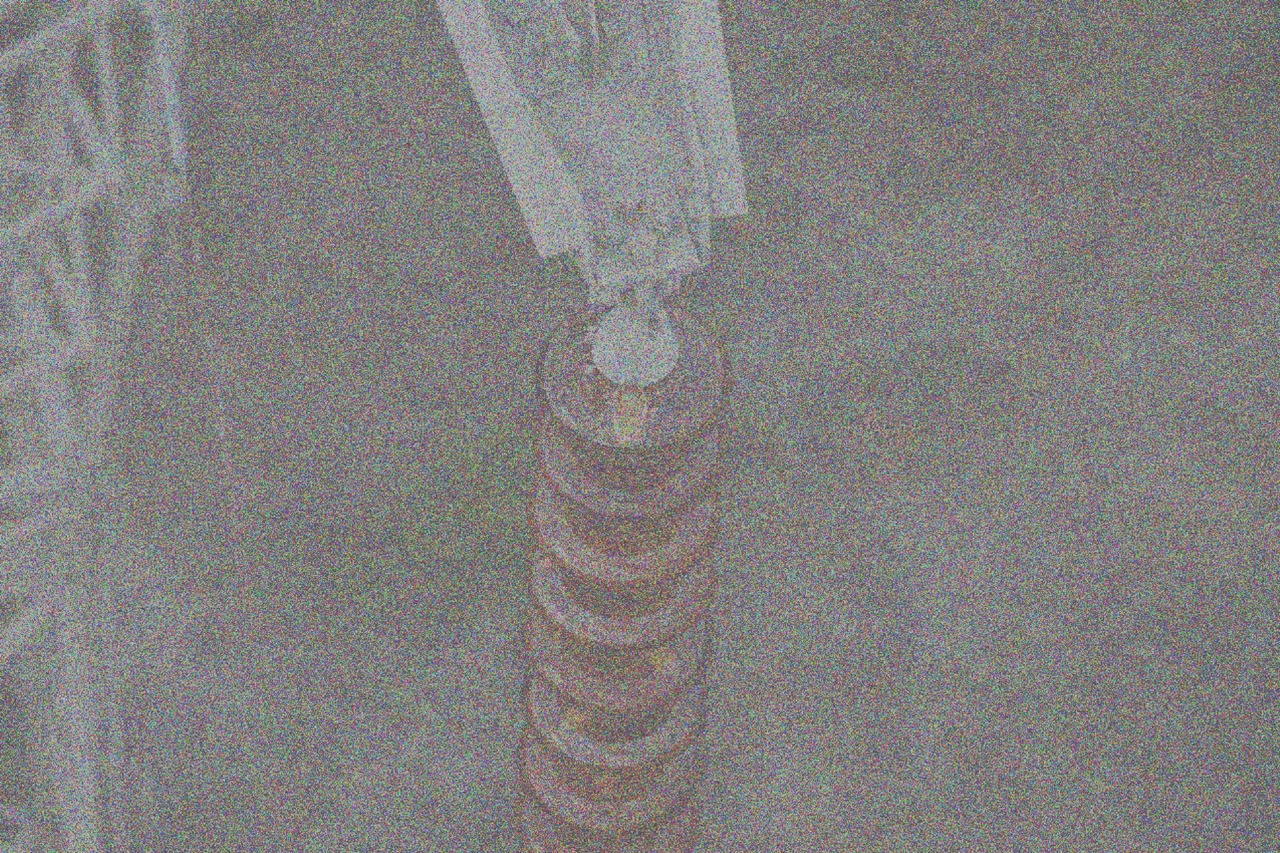Flashover damage: (527, 295, 736, 456), (521, 537, 718, 649), (517, 603, 715, 714), (518, 669, 715, 773), (508, 731, 705, 835)
No issues: (524, 468, 725, 556)
String: (514, 284, 735, 853)
